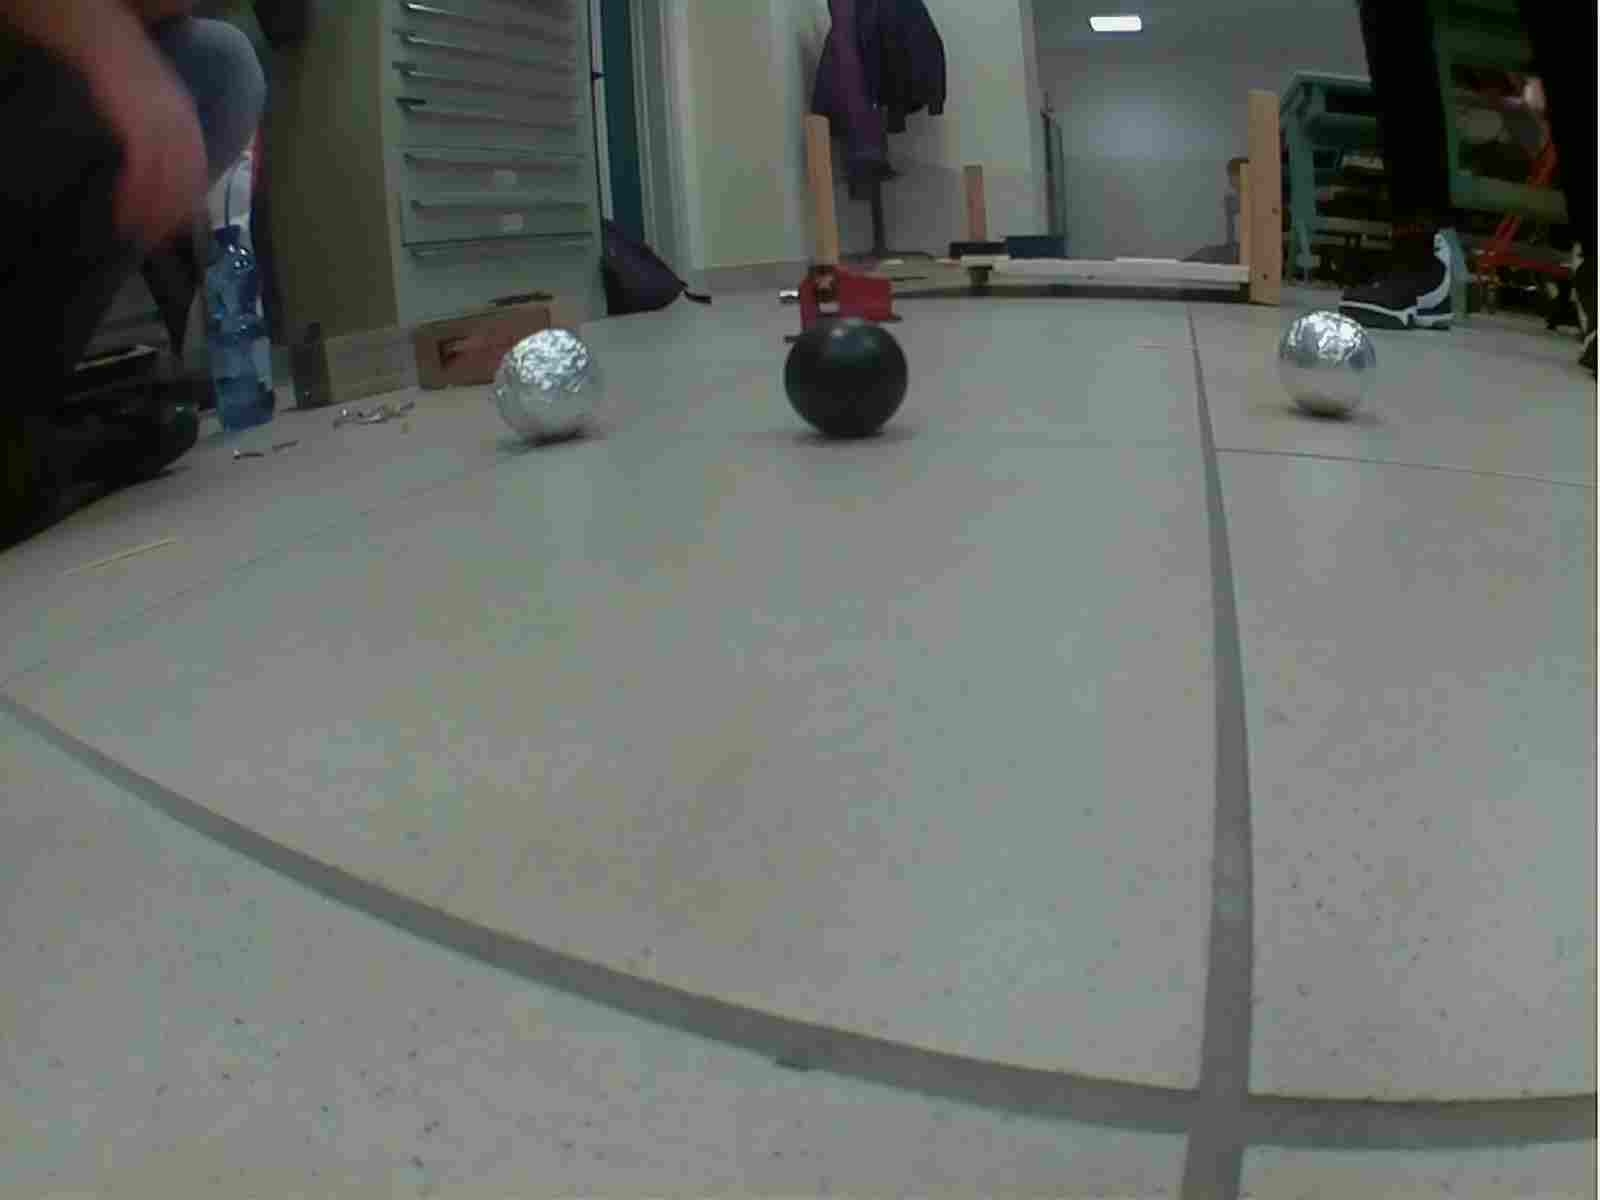bianca: (496, 326, 603, 447), (1277, 306, 1380, 425)
nera: (784, 319, 913, 439)
